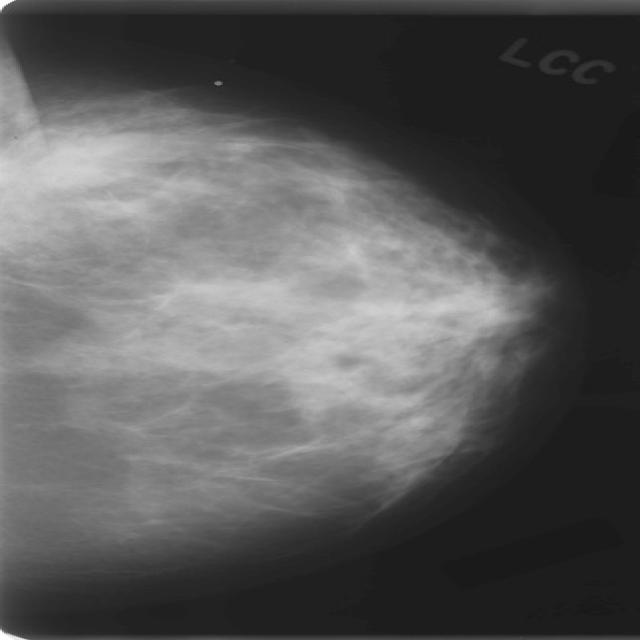tumour: (0, 126, 163, 192)
